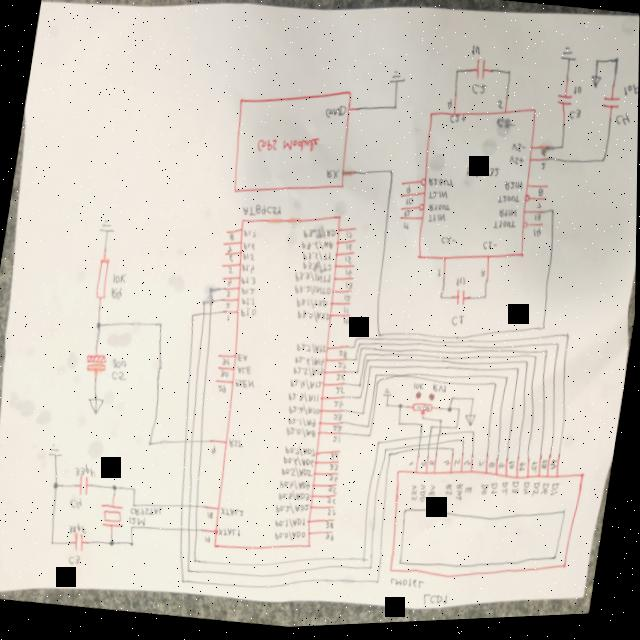capacitor: (85, 351, 110, 377), (473, 61, 489, 87), (555, 97, 575, 116), (600, 100, 621, 118), (78, 476, 93, 499), (454, 292, 469, 314), (73, 533, 88, 554)
crossover: (181, 528, 187, 535), (189, 505, 194, 512), (209, 301, 214, 308), (191, 440, 196, 447), (189, 529, 194, 535), (181, 505, 186, 511), (196, 505, 201, 511), (196, 529, 201, 535), (436, 450, 441, 456), (209, 313, 214, 319), (184, 440, 189, 446), (200, 440, 205, 446), (439, 430, 444, 435), (437, 445, 441, 450), (428, 451, 432, 455), (419, 451, 423, 455), (419, 447, 423, 451), (428, 447, 432, 451), (439, 437, 443, 441), (203, 314, 207, 318), (420, 439, 423, 443), (430, 438, 433, 442)
ground: (559, 50, 580, 69), (99, 218, 117, 237), (389, 74, 407, 90), (49, 443, 65, 460), (383, 391, 394, 402)
junction: (96, 321, 104, 332), (53, 481, 61, 491), (112, 484, 120, 493), (439, 296, 446, 306), (613, 61, 620, 71), (419, 424, 426, 434), (375, 582, 383, 590), (208, 288, 216, 296), (594, 63, 601, 72), (482, 298, 489, 307), (158, 322, 165, 331), (148, 441, 155, 450), (202, 301, 209, 310), (110, 541, 117, 549), (51, 540, 58, 548), (559, 148, 566, 156), (600, 162, 607, 170), (181, 580, 188, 588), (450, 399, 457, 407), (470, 400, 477, 408), (447, 411, 455, 418), (392, 108, 399, 115), (363, 561, 370, 568), (399, 406, 405, 414), (389, 172, 395, 180), (190, 315, 196, 322), (550, 213, 556, 220), (354, 360, 360, 367), (525, 365, 531, 371), (355, 372, 361, 378), (131, 543, 136, 549), (566, 338, 571, 344), (506, 75, 511, 81), (455, 73, 460, 79), (542, 330, 547, 336), (359, 398, 364, 404), (517, 371, 522, 377), (430, 429, 435, 435), (133, 504, 138, 510), (386, 406, 391, 412), (494, 386, 499, 392), (556, 347, 561, 353), (545, 354, 550, 360), (188, 571, 193, 577), (133, 489, 138, 494), (131, 527, 136, 532), (455, 429, 460, 434), (439, 423, 444, 428), (472, 435, 477, 440), (388, 456, 393, 461), (370, 569, 375, 574), (505, 381, 510, 386), (534, 361, 539, 366), (358, 386, 363, 391), (194, 560, 199, 565), (422, 420, 426, 425), (453, 452, 457, 457), (362, 415, 367, 419), (377, 383, 381, 388), (367, 362, 371, 367), (365, 356, 369, 361), (399, 425, 403, 429), (378, 337, 382, 341), (378, 445, 382, 449), (355, 341, 359, 345), (458, 412, 462, 416), (462, 444, 466, 448), (385, 452, 389, 456), (369, 437, 373, 441), (367, 428, 371, 432), (375, 378, 379, 382), (358, 345, 362, 349), (370, 368, 373, 372), (361, 350, 364, 354), (354, 349, 357, 353)
resistor: (94, 258, 113, 303), (412, 405, 435, 421)
source: (87, 398, 106, 417), (588, 79, 602, 96), (464, 418, 477, 432)
text: (255, 130, 324, 165), (241, 204, 284, 224), (465, 166, 503, 188), (390, 578, 429, 597), (295, 271, 332, 291), (294, 284, 332, 303), (274, 529, 310, 549), (276, 502, 312, 521), (303, 227, 338, 246), (290, 378, 325, 396), (276, 517, 309, 535), (298, 311, 332, 328), (296, 298, 329, 315), (302, 240, 335, 257), (293, 366, 326, 383), (289, 404, 322, 421), (279, 491, 312, 507), (302, 261, 333, 278), (302, 251, 333, 268), (280, 479, 312, 495), (131, 506, 165, 521), (283, 457, 317, 472), (297, 343, 328, 359), (296, 356, 327, 372), (287, 427, 318, 443), (282, 467, 315, 482), (285, 446, 318, 461), (289, 392, 322, 407), (324, 105, 348, 125), (218, 526, 244, 544), (234, 377, 259, 395), (75, 462, 100, 480), (427, 179, 455, 195), (492, 221, 518, 238), (289, 417, 318, 432), (423, 596, 450, 612), (502, 182, 526, 199), (497, 196, 522, 212), (221, 507, 245, 523), (496, 209, 519, 225), (428, 204, 452, 219), (427, 214, 448, 230), (496, 121, 517, 137), (69, 522, 89, 538), (614, 118, 632, 134), (428, 193, 450, 206), (622, 88, 639, 104), (508, 158, 526, 173), (449, 116, 467, 131), (427, 488, 439, 510), (450, 318, 467, 333), (228, 439, 246, 453), (419, 486, 430, 508), (112, 273, 128, 288), (70, 496, 85, 512), (481, 244, 498, 258), (68, 554, 85, 568), (236, 366, 253, 380), (110, 286, 124, 303), (325, 171, 341, 185), (471, 87, 487, 101), (441, 239, 458, 252), (241, 309, 258, 322), (510, 147, 528, 159), (568, 114, 583, 128), (410, 487, 421, 506), (129, 517, 148, 528), (112, 371, 129, 383), (455, 488, 466, 506), (433, 387, 448, 400), (113, 359, 128, 372), (536, 190, 548, 206), (241, 278, 258, 289), (241, 288, 258, 299), (531, 230, 544, 244), (241, 265, 256, 277), (242, 298, 257, 310), (551, 487, 562, 503), (532, 486, 542, 503), (532, 216, 544, 230), (511, 485, 522, 499), (480, 487, 491, 501), (243, 243, 257, 254), (501, 485, 510, 502), (523, 486, 533, 501), (237, 355, 249, 367), (445, 488, 456, 501), (541, 488, 552, 501), (244, 231, 258, 241), (490, 486, 500, 500), (242, 254, 256, 264), (495, 103, 505, 116), (471, 49, 481, 62), (550, 463, 559, 477), (456, 281, 467, 292), (334, 402, 345, 413), (217, 385, 228, 396), (206, 511, 216, 523), (414, 385, 426, 395), (327, 499, 339, 509), (532, 465, 540, 479), (333, 437, 343, 448), (329, 477, 340, 487), (329, 488, 340, 498), (573, 91, 583, 102), (338, 364, 349, 374), (336, 389, 347, 399), (330, 455, 341, 465), (333, 427, 345, 436), (326, 535, 336, 545), (403, 213, 414, 222), (519, 466, 528, 477), (336, 376, 347, 385), (333, 416, 344, 425), (327, 511, 338, 520), (220, 371, 231, 380), (540, 152, 548, 164), (540, 166, 549, 176), (205, 536, 214, 546), (405, 201, 414, 211), (344, 259, 354, 268), (339, 353, 349, 362), (330, 466, 340, 475), (326, 524, 336, 533), (446, 103, 454, 114), (509, 465, 517, 476), (437, 272, 444, 284), (480, 272, 487, 284), (228, 234, 237, 243), (345, 271, 354, 280), (345, 285, 354, 294), (343, 297, 352, 306), (223, 359, 232, 368), (211, 448, 219, 458), (406, 188, 413, 199), (455, 462, 462, 473), (542, 464, 549, 475), (444, 463, 453, 471), (346, 234, 354, 243), (343, 320, 351, 329), (421, 463, 428, 473), (536, 206, 543, 216), (466, 491, 474, 499), (226, 316, 233, 325), (403, 225, 410, 234), (478, 465, 487, 472), (227, 247, 234, 256), (346, 246, 353, 255), (343, 309, 350, 318), (464, 464, 472, 471), (490, 466, 497, 474), (499, 467, 507, 474), (227, 268, 234, 276), (229, 256, 235, 265), (228, 280, 233, 290), (410, 464, 417, 471), (430, 464, 437, 471), (225, 305, 232, 312), (226, 292, 232, 300)
